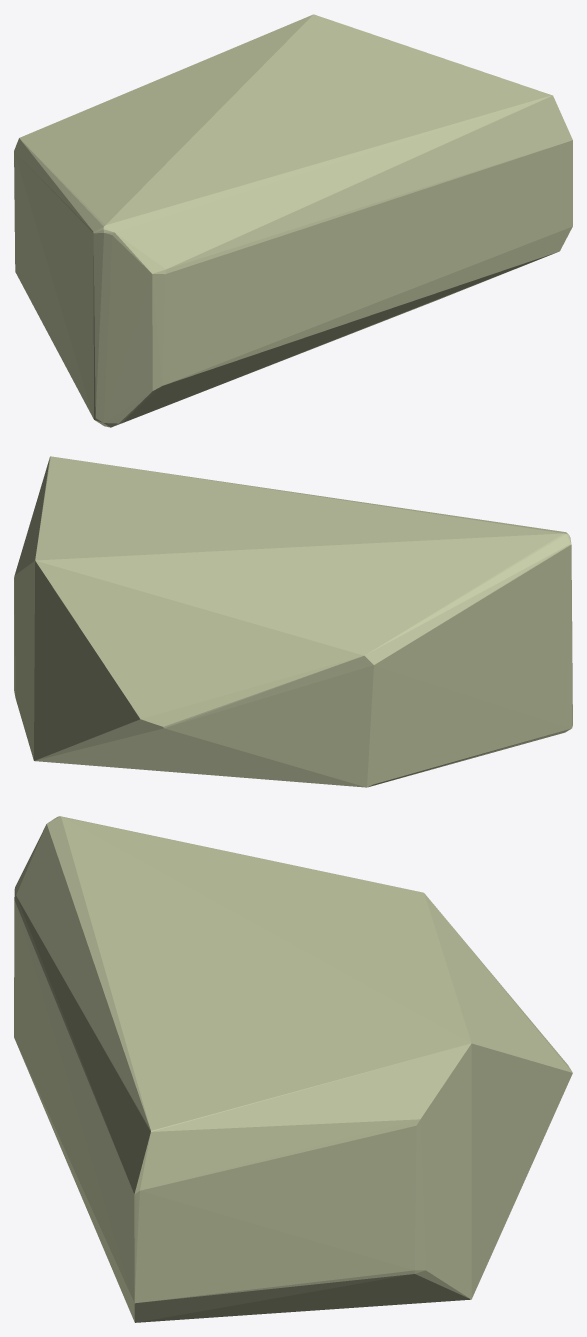
Rendered from cart_mobile_d01.glb.
The picture shows the model from 3 angles, top to bottom: view 1: azimuth 30°, elevation 25°; view 2: azimuth 150°, elevation 25°; view 3: azimuth 270°, elevation 25°; orthographic projection. The views are drawn at different scales.
Parts seen in each view (by area): view 1: geometry_0; view 2: geometry_0; view 3: geometry_0.
Boxes of the visible parts, x1=… form: geometry_0: x1=14, y1=14, x2=572, y2=427; geometry_0: x1=14, y1=456, x2=572, y2=787; geometry_0: x1=14, y1=816, x2=572, y2=1322.
Size of the model in its own units: 0.4775 by 0.1826 by 0.3621.
